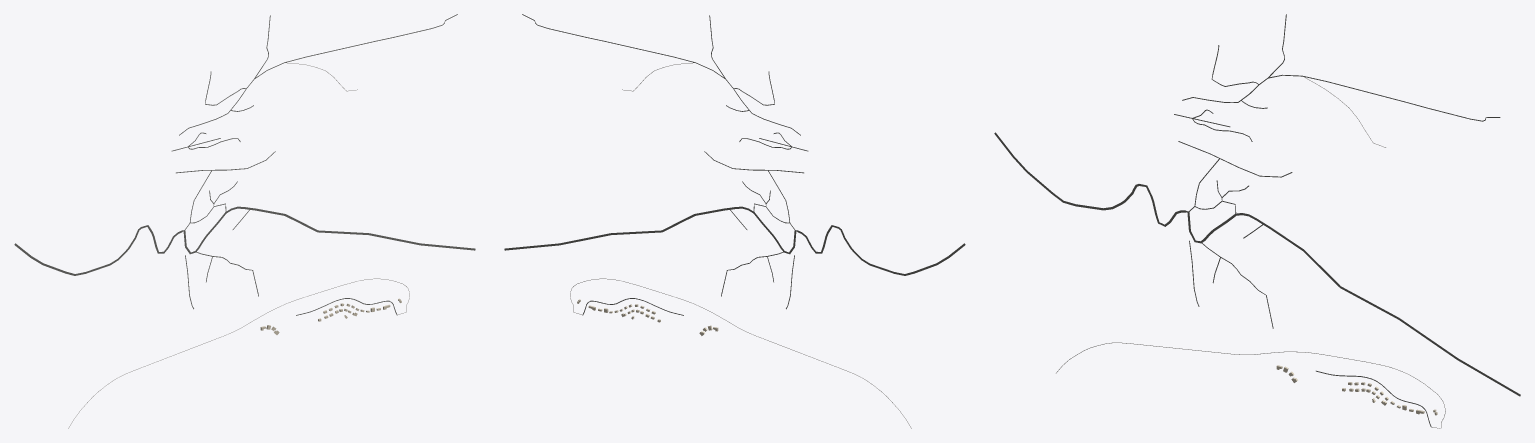
File: historic-palestine-09_30_3510_3249.glb
3 renders of one model, left to right at view 1: azimuth 30°, elevation 25°; view 2: azimuth 150°, elevation 25°; view 3: azimuth 330°, elevation 25°, orthographic. The views are drawn at different scales.
Visible parts, largest first — view 1: Road شارع رئيسي; view 2: Road شارع رئيسي; view 3: Road شارع رئيسي.
Boxes of the visible parts, x1,y1,x2,y2 form: Road شارع رئيسي: (14, 206, 475, 275); Road شارع رئيسي: (504, 206, 965, 275); Road شارع رئيسي: (994, 132, 1520, 396).
Size of the model in its own units: 1978 by 1492 by 8.7.
